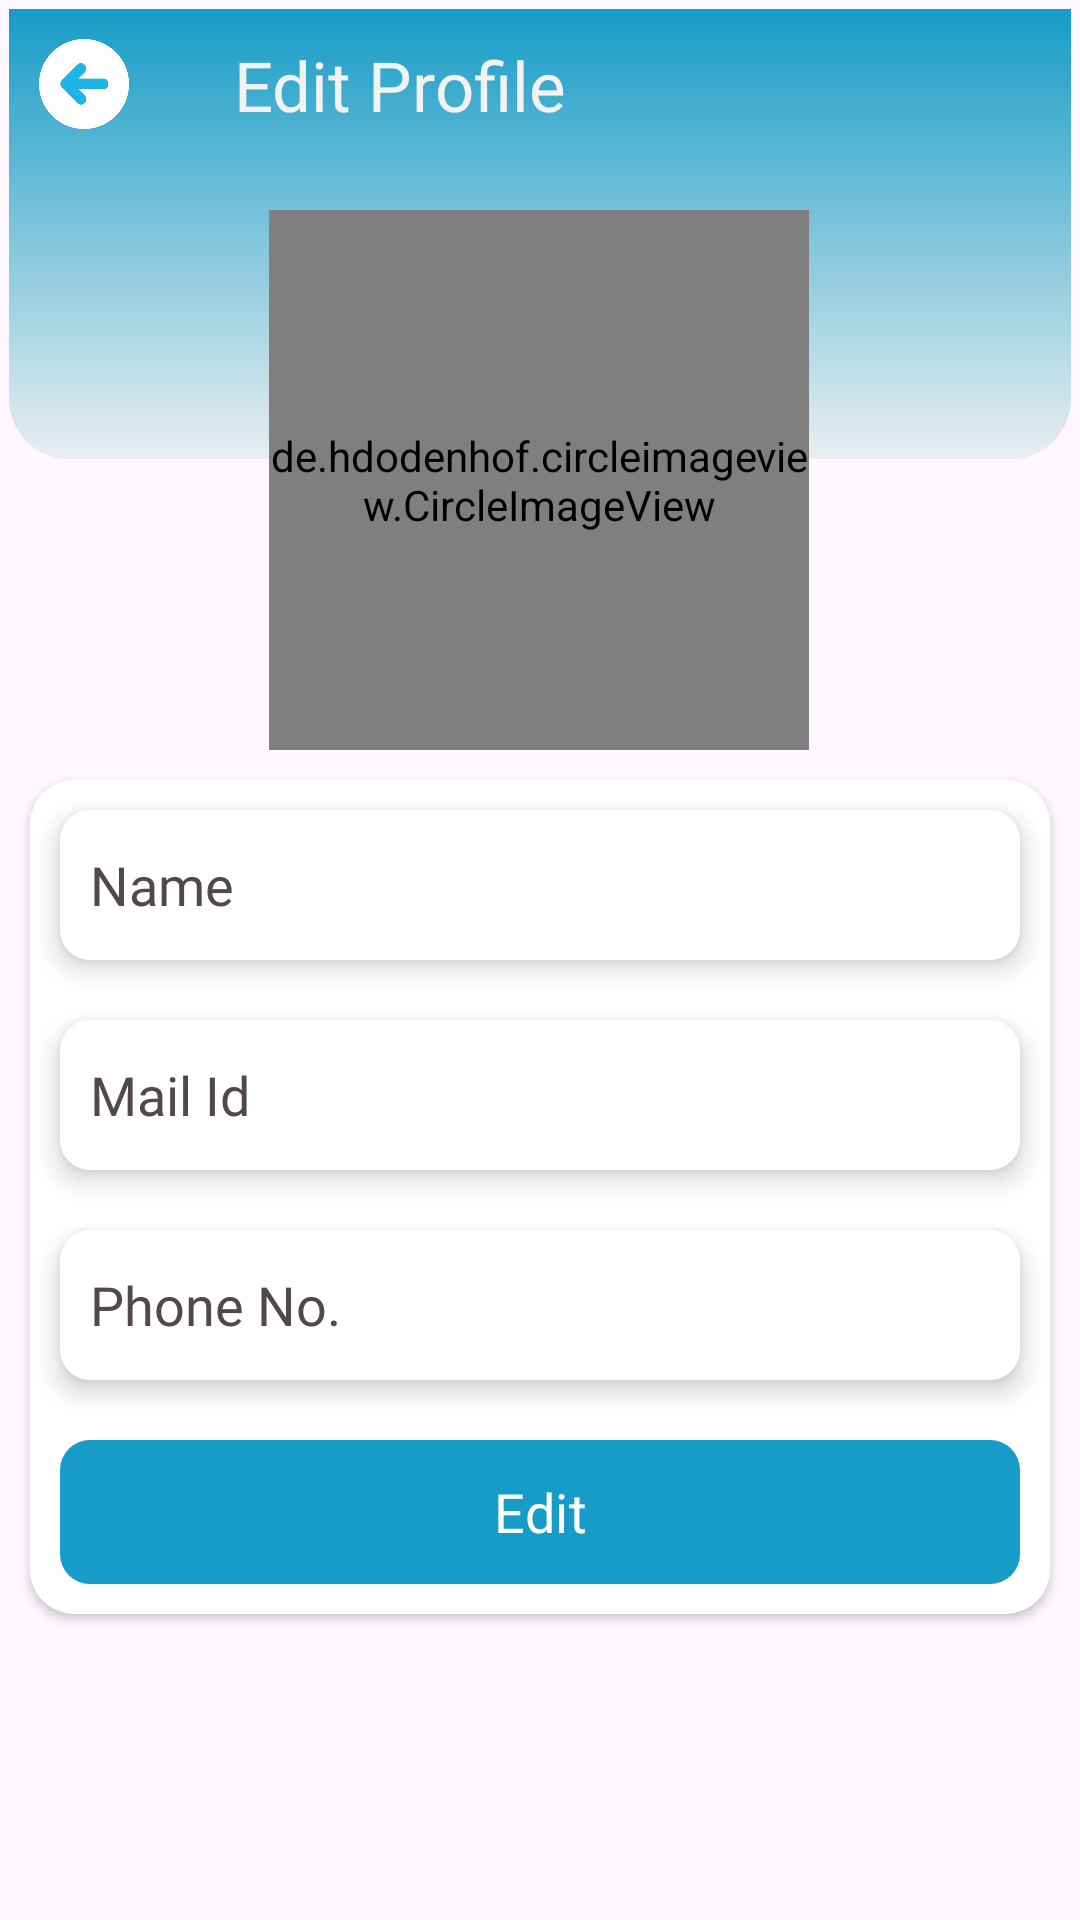

Icons on this 1080px×1920px Android screen, each with the point to tap as point (x, y):
previous: point (84, 84)
